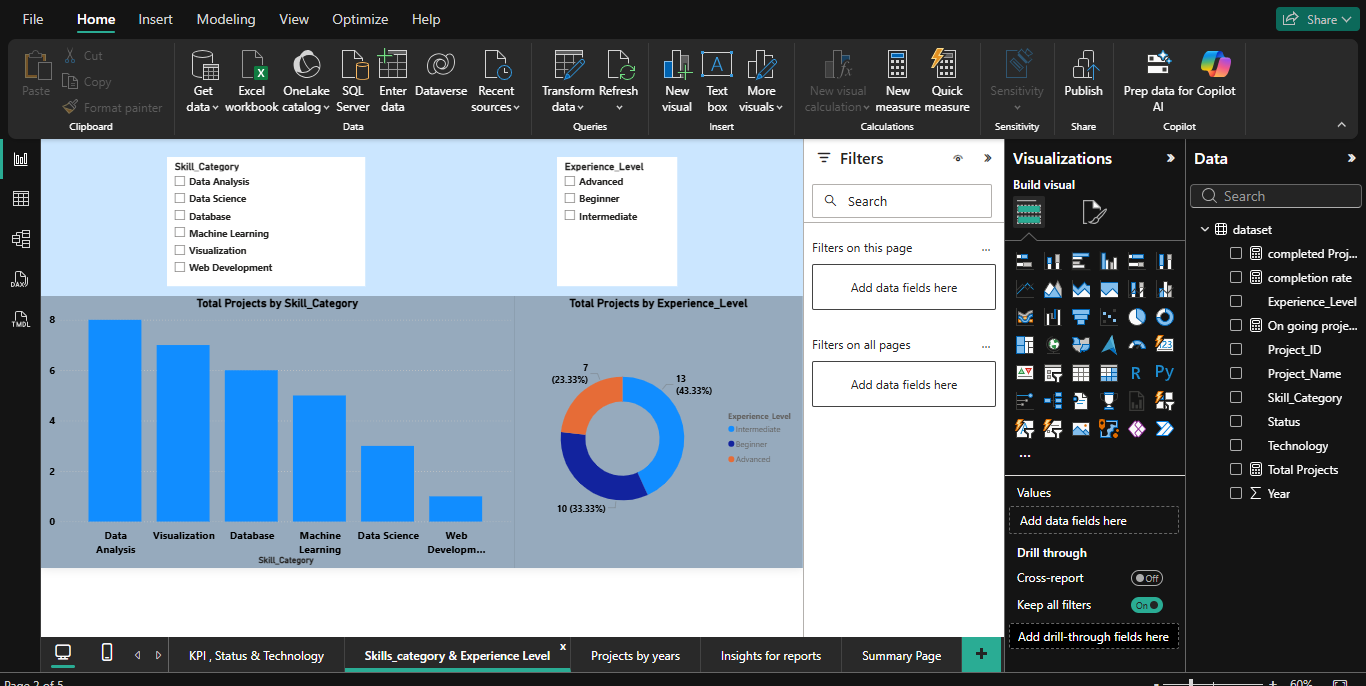

What the dashboard file says about the page in this screenshot:
{"tool":"powerbi","page":{"name":"Skills_category & Experience Level","canvas":[1280,720],"ordinal":1},"visuals":[{"type":"columnChart","fields":{"Category":["dataset.Skill_Category"],"Y":["dataset.Total Projects"]},"box":[0,263.7,794.5,456.9],"z":0},{"type":"donutChart","fields":{"Category":["dataset.Experience_Level"],"Y":["dataset.Total Projects"]},"box":[794.5,263.7,485.5,456.9],"z":1000},{"type":"slicer","fields":{"Values":["dataset.Skill_Category"]},"box":[31.9,18.5,332.6,216.7],"z":2000},{"type":"slicer","fields":{"Values":["dataset.Experience_Level"]},"box":[1023,18.5,201.6,216.7],"z":3000}]}

Visuals, with their boxes on the page's 1280x720 design canvas (x1, y1, x2, y2). These are canvas units, not pixel positions in the 1366x686 screenshot, which may show the page scaled, cropped or inside an application window:
columnChart - dataset.Skill_Category x dataset.Total Projects: region(0, 264, 794, 721)
donutChart - dataset.Experience_Level x dataset.Total Projects: region(794, 264, 1280, 721)
slicer - dataset.Skill_Category: region(32, 18, 364, 235)
slicer - dataset.Experience_Level: region(1023, 18, 1225, 235)
